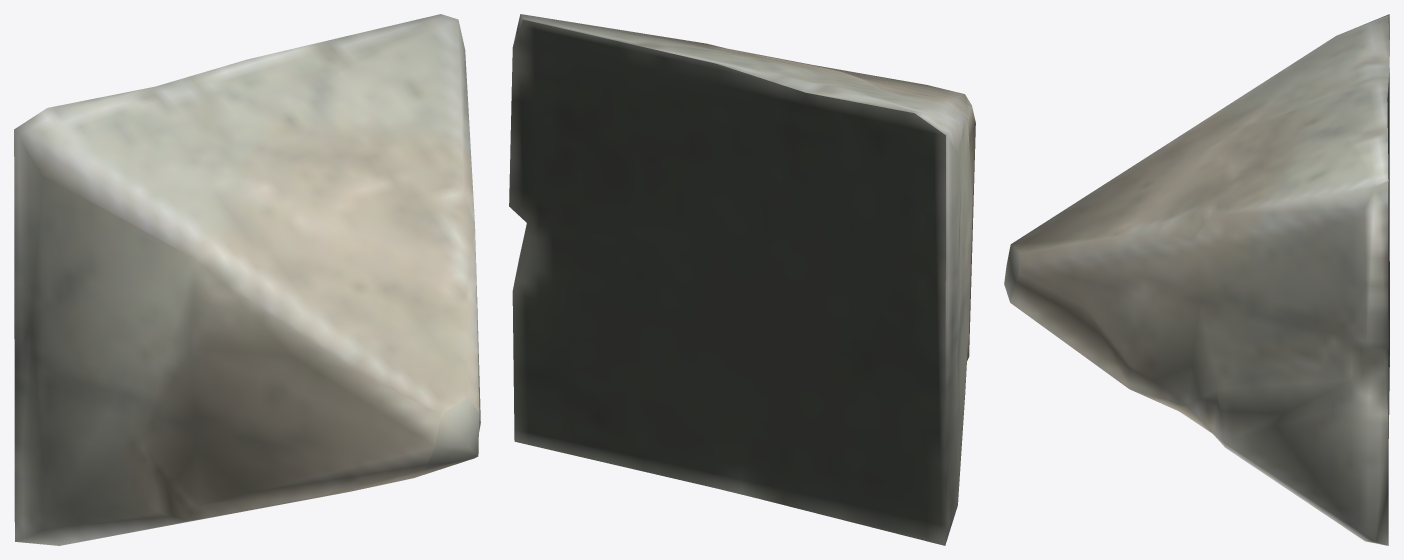
The model's file is Vd_Vulgrim_TrimTop_B.fbx.
3 renders of one model, left to right at view 1: azimuth 30°, elevation 25°; view 2: azimuth 150°, elevation 25°; view 3: azimuth 270°, elevation 25°, orthographic. The views are drawn at different scales.
Visible parts, largest first — view 1: Vd_Vulgrim_TrimTop_B; view 2: Vd_Vulgrim_TrimTop_B; view 3: Vd_Vulgrim_TrimTop_B.
Boxes of the visible parts, left/top/right/bottom form: Vd_Vulgrim_TrimTop_B: left=14, top=14, right=480, bottom=545; Vd_Vulgrim_TrimTop_B: left=509, top=14, right=975, bottom=545; Vd_Vulgrim_TrimTop_B: left=1004, top=14, right=1389, bottom=545.
Size of the model in its own units: 122 by 113 by 109.
